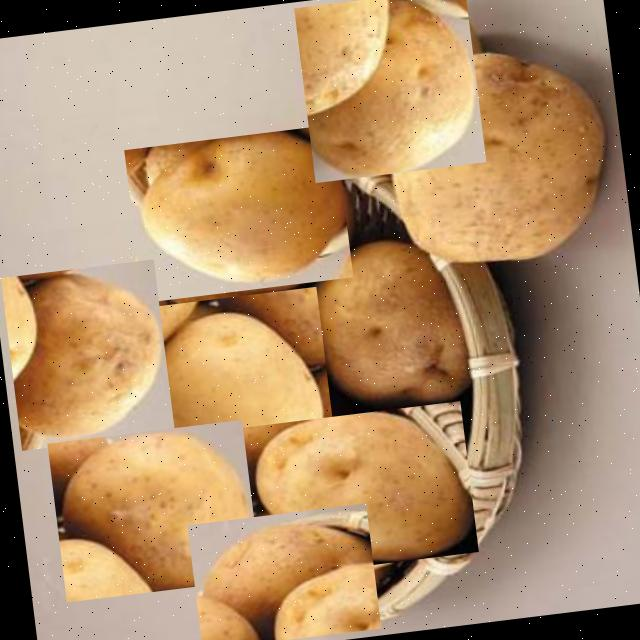Potato: (368, 37, 619, 276), (121, 286, 340, 508), (237, 400, 478, 578), (293, 225, 491, 436), (124, 122, 352, 302), (47, 418, 261, 601), (293, 0, 485, 181), (1, 258, 174, 449), (187, 502, 381, 640)
